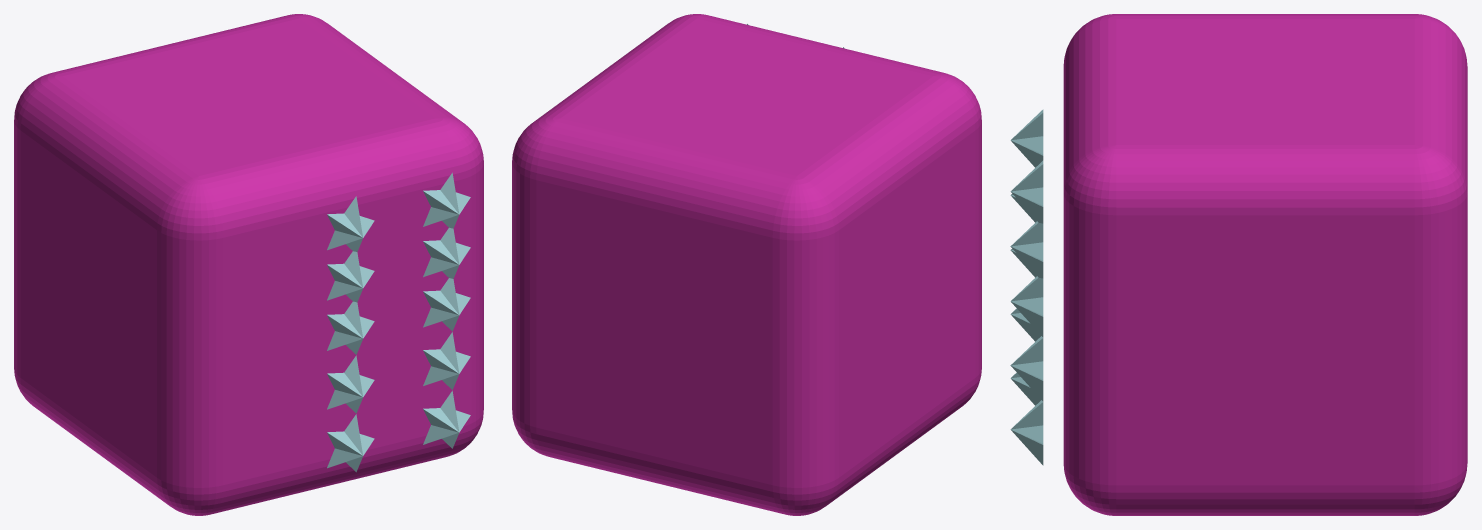
File: Glorious Uusam-Snaget.glb
3 renders of one model, left to right at view 1: azimuth 30°, elevation 25°; view 2: azimuth 150°, elevation 25°; view 3: azimuth 270°, elevation 25°, orthographic. The views are drawn at different scales.
Visible parts, largest first — view 1: Mesh_Mesh_head_geo.001_lambert2SG.001; view 2: Mesh_Mesh_head_geo.001_lambert2SG.001; view 3: Mesh_Mesh_head_geo.001_lambert2SG.001.
Part boxes in pixels (left/top/right/bottom): Mesh_Mesh_head_geo.001_lambert2SG.001: left=14, top=14, right=483, bottom=515; Mesh_Mesh_head_geo.001_lambert2SG.001: left=512, top=14, right=981, bottom=515; Mesh_Mesh_head_geo.001_lambert2SG.001: left=1010, top=14, right=1467, bottom=515.
Size of the model in its own units: 0.04 by 0.04 by 0.0453.
